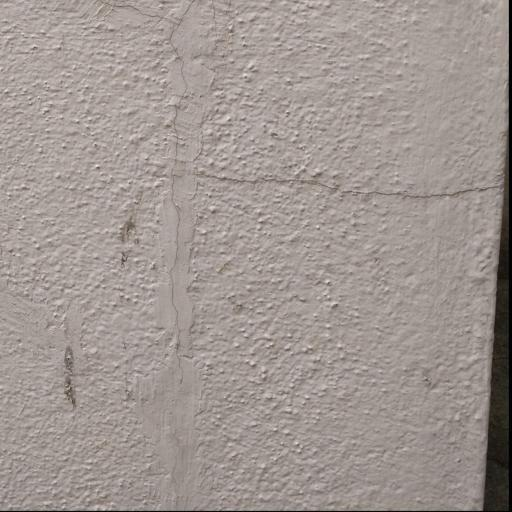minor_crack: (149, 0, 214, 406), (200, 163, 512, 203)
